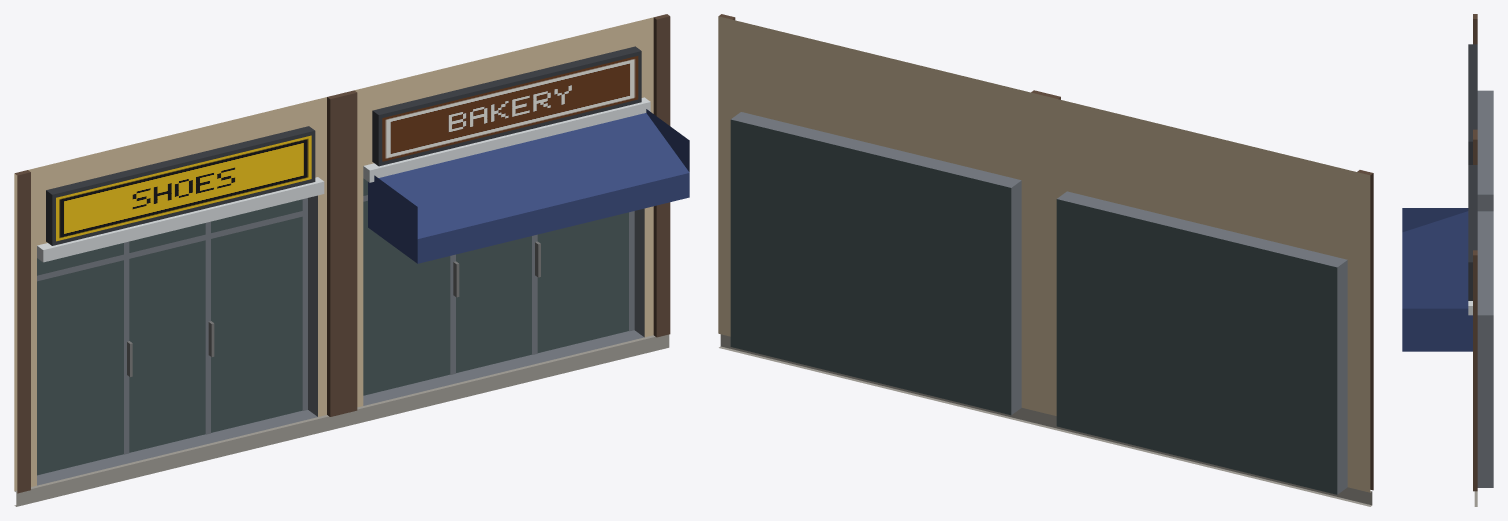
Rendered from base-w4_close.fbx.
3 renders of one model, left to right at view 1: azimuth 30°, elevation 25°; view 2: azimuth 150°, elevation 25°; view 3: azimuth 270°, elevation 25°, orthographic. The views are drawn at different scales.
Parts seen in each view (by area): view 1: a2009/200/base-w4_close; view 2: a2009/200/base-w4_close; view 3: a2009/200/base-w4_close.
Part boxes in pixels (bbox=[...]): a2009/200/base-w4_close: bbox=[14, 14, 689, 506]; a2009/200/base-w4_close: bbox=[718, 14, 1373, 506]; a2009/200/base-w4_close: bbox=[1402, 14, 1493, 506].
Bounding box in the file's own units: 7.2 × 3.5 × 1.15.
